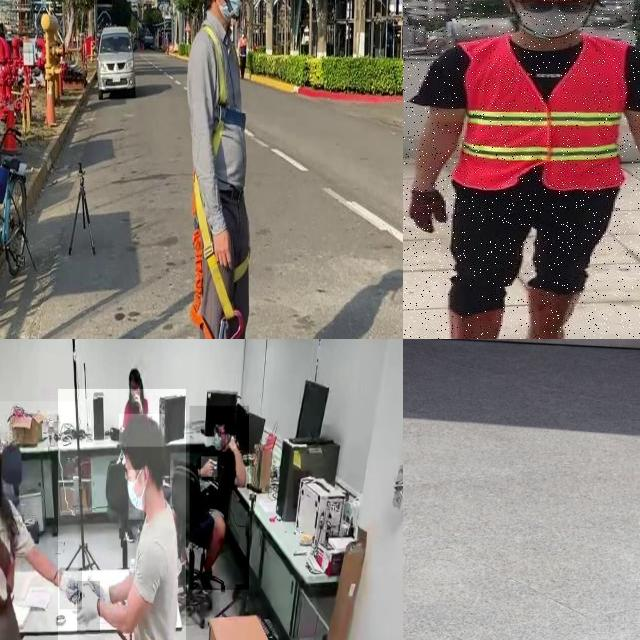Harness: (190, 174, 246, 339)
boots: (524, 282, 586, 339), (435, 308, 505, 339)
face_mask: (128, 470, 144, 520), (211, 428, 225, 464)
face_nomask: (128, 381, 140, 396)
hand_glove: (84, 566, 114, 610), (77, 581, 101, 632), (60, 568, 82, 610)
hand_noglove: (201, 456, 218, 478), (226, 435, 236, 449), (131, 391, 141, 403)
head_nohelmet: (119, 413, 165, 448), (213, 408, 231, 426), (128, 366, 141, 380)
person: (403, 0, 640, 339), (57, 388, 186, 640), (0, 401, 78, 640), (190, 406, 250, 590), (118, 359, 152, 422)
vest: (462, 38, 624, 189)
